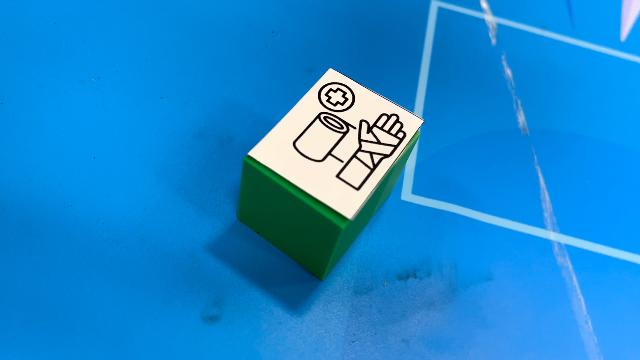bandage: (237, 68, 425, 280)
